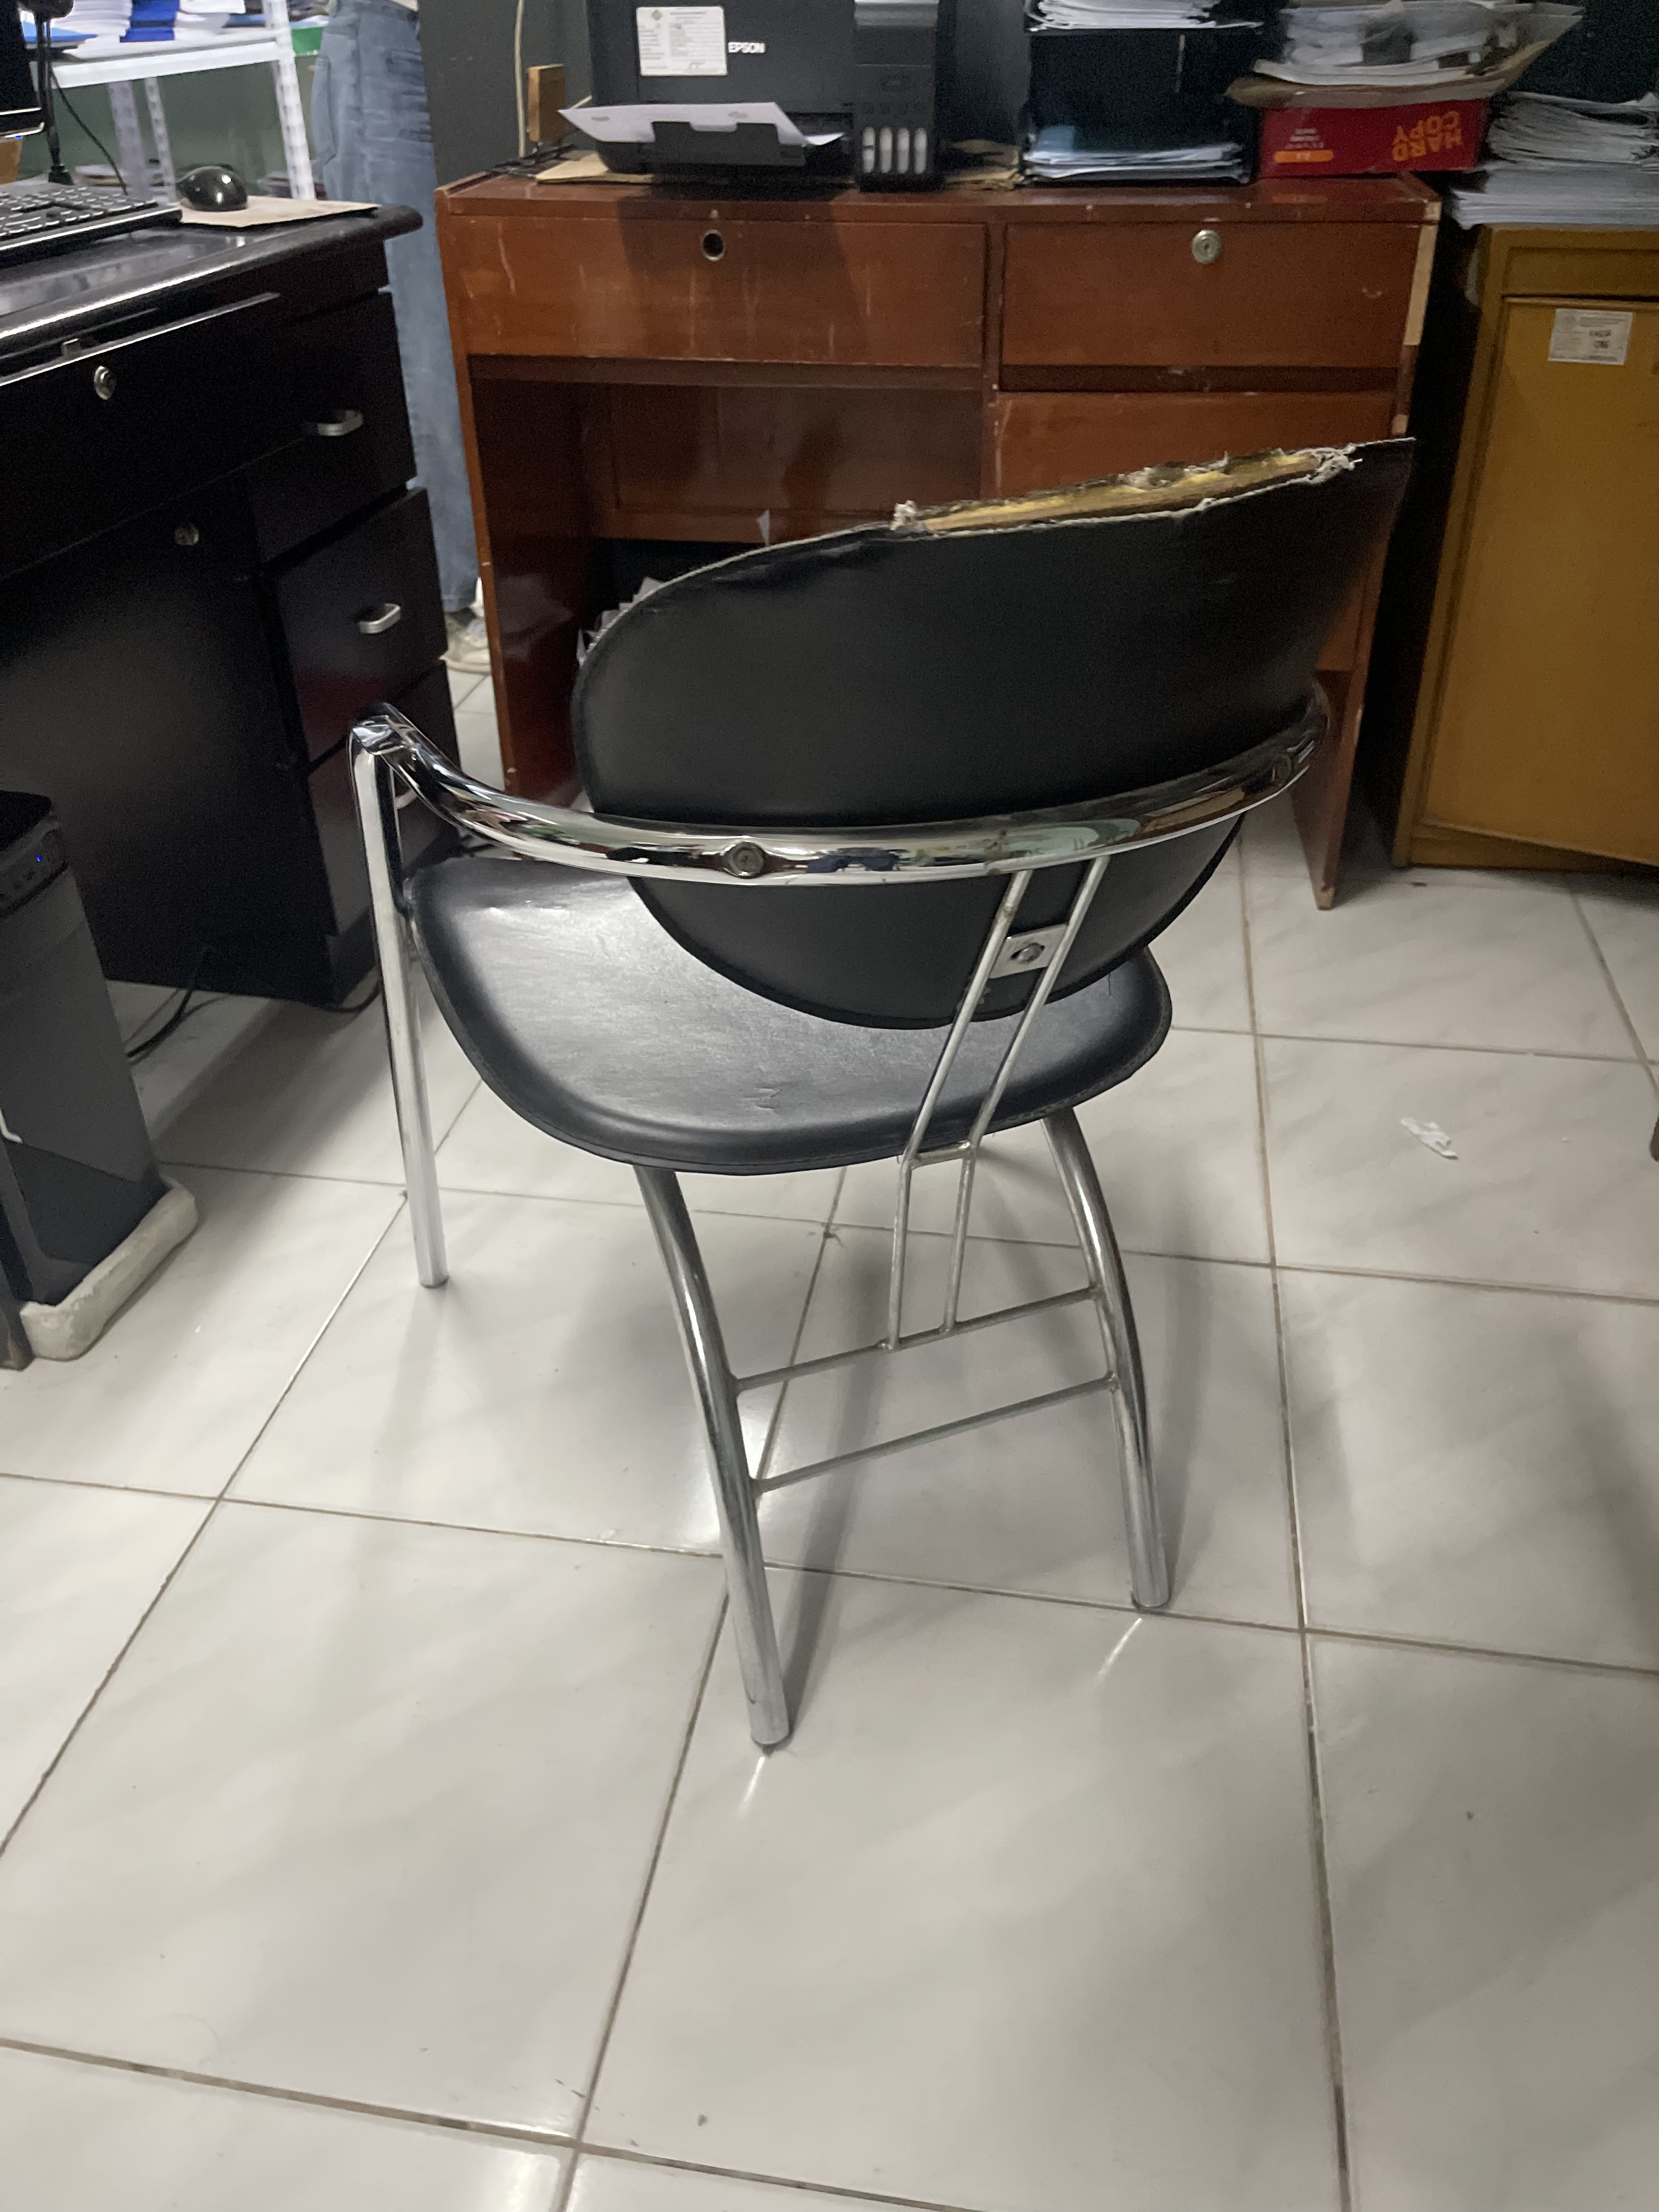chair1: (338, 439, 1431, 1773)
